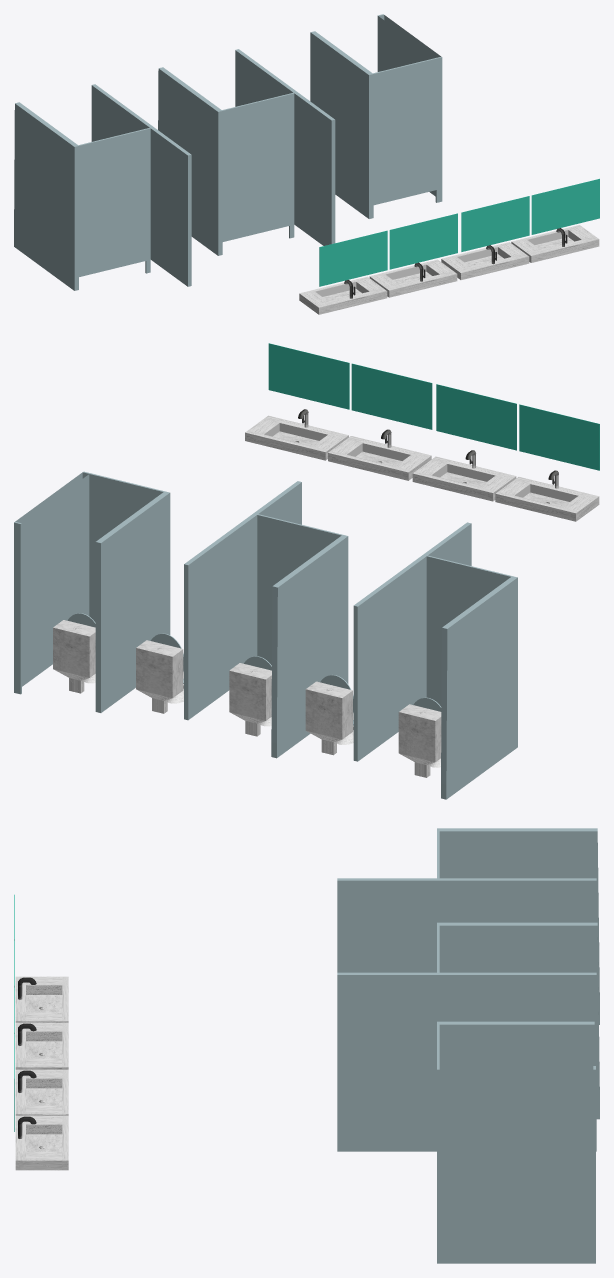
Rendered from banheiro.obj.
3 views of the same model, one above another, from view 1: azimuth 30°, elevation 25°; view 2: azimuth 150°, elevation 25°; view 3: azimuth 270°, elevation 25° (orthographic). The views are drawn at different scales.
Visible parts, largest first — view 1: Cube.002, Cube.004, Cube.001, Cube.003, Cube, pia.003, pia.001, pia, pia.002; view 2: Cube.002, Cube.004, Cube.001, Cube.003, Cube, pia.003, pia.001, pia, pia.002, privada.003, privada, privada.004 (+2 smaller); view 3: Cube.002, Cube, Cube.003, Cube.001, Cube.004, pia, pia.002, pia.001, pia.003.
Part boxes in pixels (x1=…): Cube.002: x1=310, y1=14, x2=442, y2=218; Cube.004: x1=14, y1=102, x2=148, y2=290; Cube.001: x1=158, y1=67, x2=291, y2=255; Cube.003: x1=91, y1=84, x2=191, y2=286; Cube: x1=235, y1=49, x2=335, y2=245; pia.003: x1=299, y1=230, x2=387, y2=314; pia.001: x1=441, y1=196, x2=529, y2=279; pia: x1=511, y1=178, x2=599, y2=262; pia.002: x1=369, y1=213, x2=457, y2=297; Cube.002: x1=14, y1=471, x2=170, y2=712; Cube.004: x1=430, y1=556, x2=517, y2=799; Cube.001: x1=260, y1=515, x2=348, y2=758; Cube.003: x1=353, y1=522, x2=471, y2=761; Cube: x1=184, y1=481, x2=301, y2=720; pia.003: x1=495, y1=404, x2=599, y2=521; pia.001: x1=328, y1=363, x2=432, y2=480; pia: x1=245, y1=343, x2=349, y2=460; pia.002: x1=412, y1=384, x2=516, y2=501; privada.003: x1=305, y1=674, x2=353, y2=755; privada: x1=136, y1=633, x2=183, y2=713; privada.004: x1=398, y1=697, x2=441, y2=777; Cube.002: x1=437, y1=1021, x2=595, y2=1263; Cube: x1=337, y1=969, x2=596, y2=1151; Cube.003: x1=337, y1=875, x2=596, y2=972; Cube.001: x1=437, y1=922, x2=599, y2=1119; Cube.004: x1=437, y1=828, x2=599, y2=1024; pia: x1=14, y1=1034, x2=68, y2=1170; pia.002: x1=14, y1=940, x2=68, y2=1069; pia.001: x1=14, y1=987, x2=68, y2=1115; pia.003: x1=14, y1=894, x2=68, y2=1022.
Bounding box in the file's own units: 74.07 × 27.74 × 75.9.
